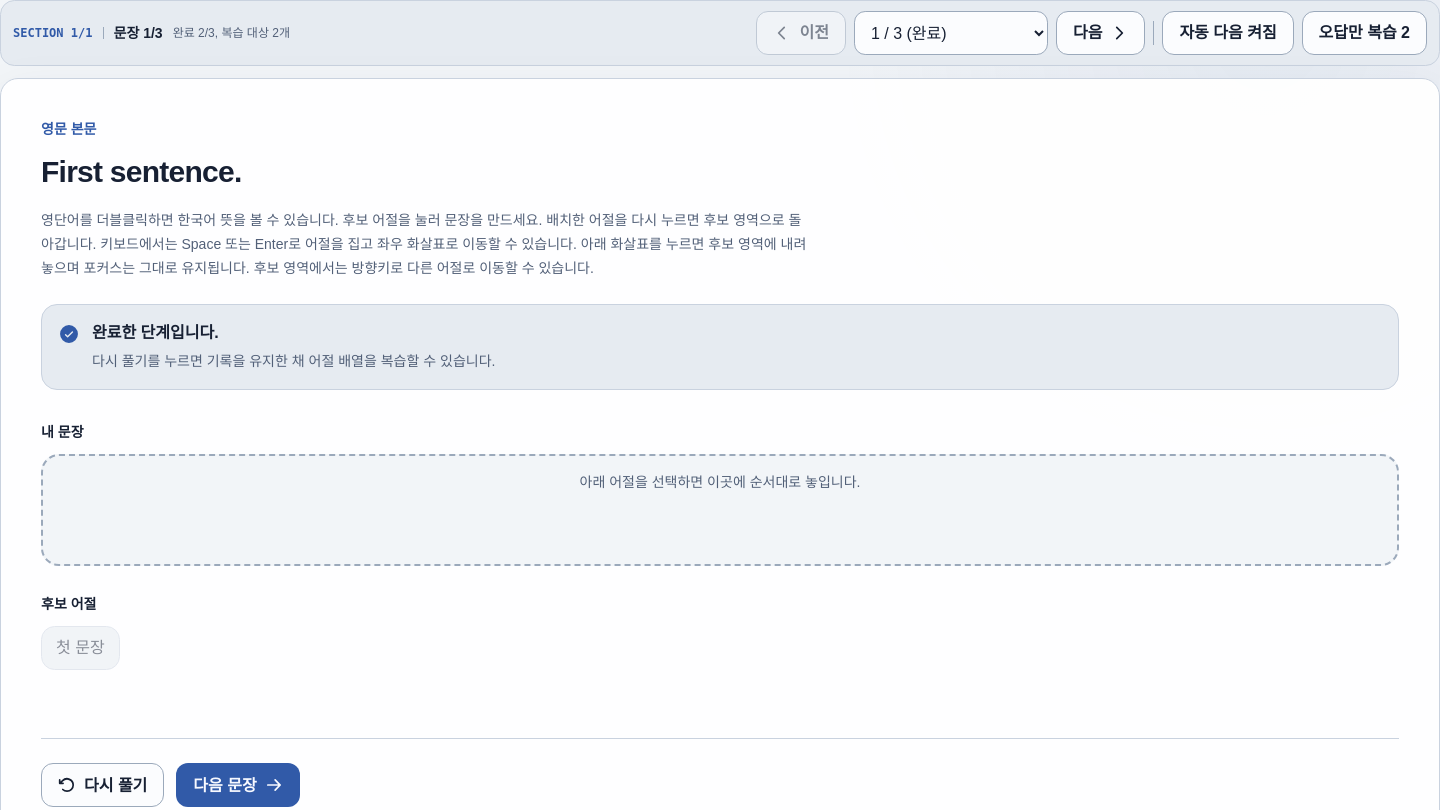
Test: BookPracticeSequence › shows completion states and filters to sentences that need review
Expected: the text "완료 2/3, 복습 대상 2개" is shown, [173,25,290,41]
Step 1. Click the button "오답만 복습 2" → [1364, 33], box [1302,11,1427,55]
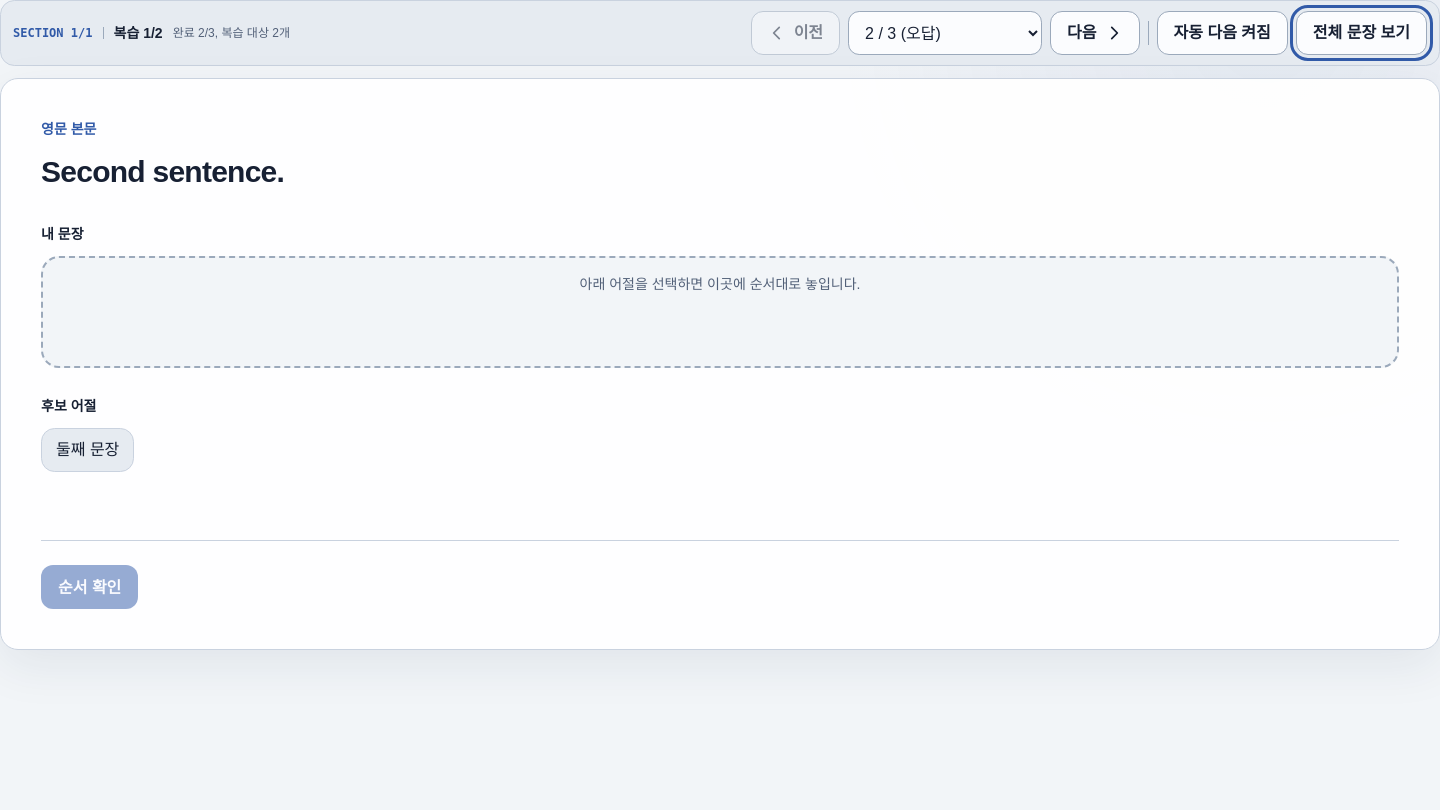
Expected: the option "1 / 3" is not shown
Result: the text "복습 1/2" is shown at [114,23,163,43]
